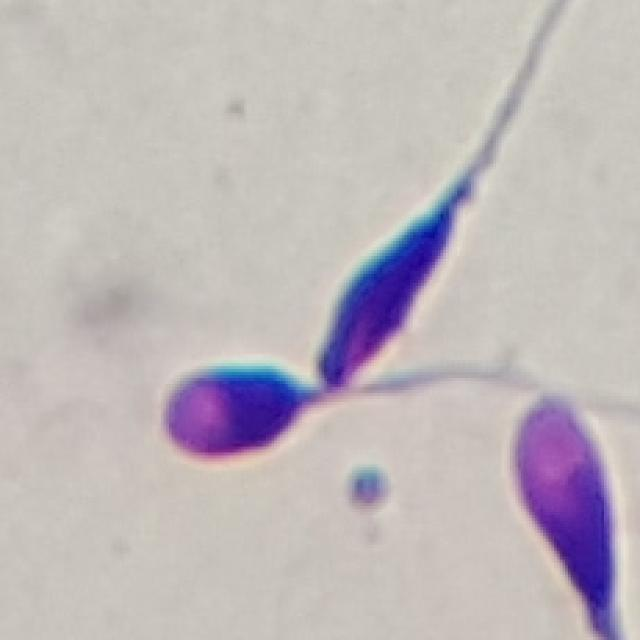abnormal sperm: (318, 99, 519, 388), (513, 396, 630, 640)
normal sperm: (163, 360, 414, 463)
